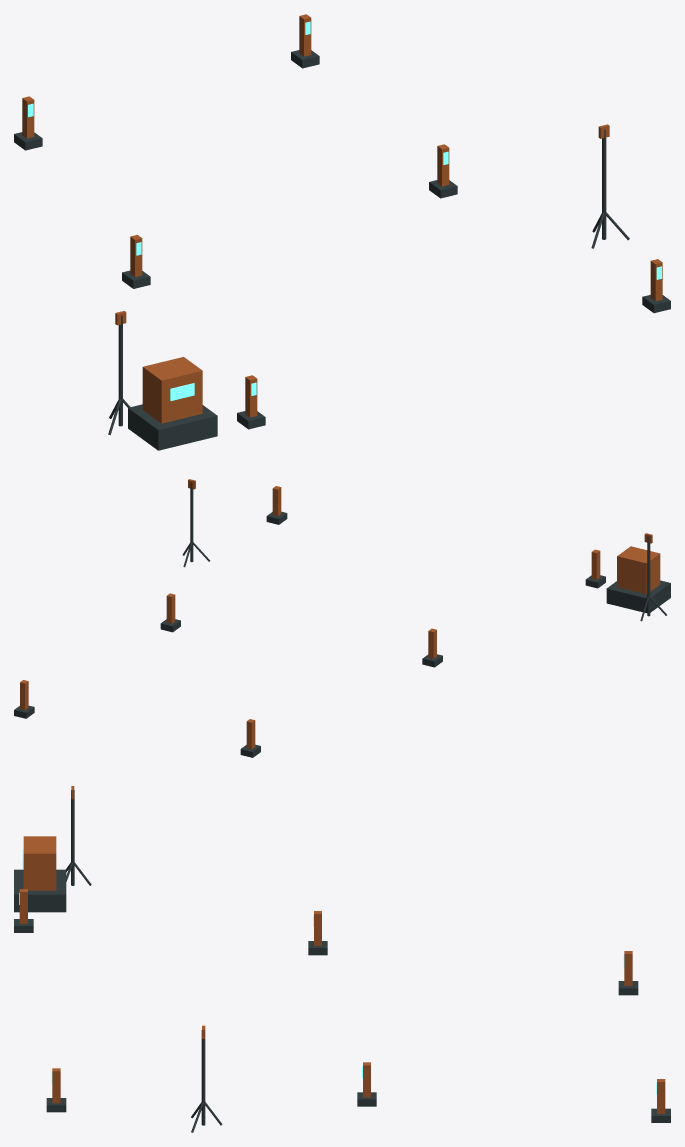
Rendered from canyon-equipment-v87.glb.
3 renders of one model, top to bottom at view 1: azimuth 30°, elevation 25°; view 2: azimuth 150°, elevation 25°; view 3: azimuth 270°, elevation 25°, orthographic. The views are drawn at different scales.
Parts seen in each view (by area): view 1: FIELD | weathered safety enamel, FIELD | dark coated steel, FIELD | guidance strips; view 2: FIELD | weathered safety enamel, FIELD | dark coated steel; view 3: FIELD | dark coated steel, FIELD | weathered safety enamel.
Boxes of the visible parts, x1,y1,x2,y2 form: FIELD | weathered safety enamel: [22, 14, 662, 423]; FIELD | dark coated steel: [14, 50, 670, 450]; FIELD | guidance strips: [28, 21, 661, 400]; FIELD | weathered safety enamel: [20, 479, 660, 749]; FIELD | dark coated steel: [14, 483, 670, 757]; FIELD | dark coated steel: [14, 790, 670, 1132]; FIELD | weathered safety enamel: [19, 786, 665, 1113].
Size of the model in its own units: 18.16 by 3.73 by 20.1.
